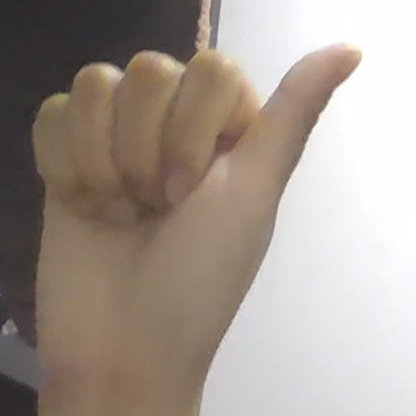A: (32, 44, 362, 374)
